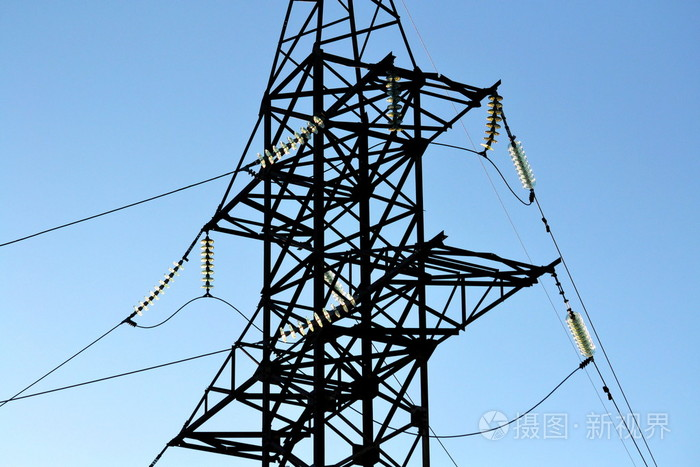insulator: (257, 114, 328, 169), (277, 296, 360, 340), (132, 255, 188, 315), (479, 93, 504, 151), (507, 138, 535, 187), (568, 310, 596, 359), (386, 73, 401, 134), (200, 237, 216, 291)
